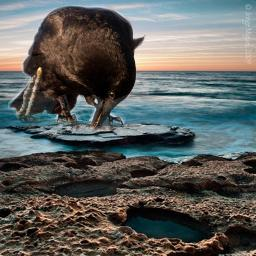Crow: (7, 4, 149, 131)
